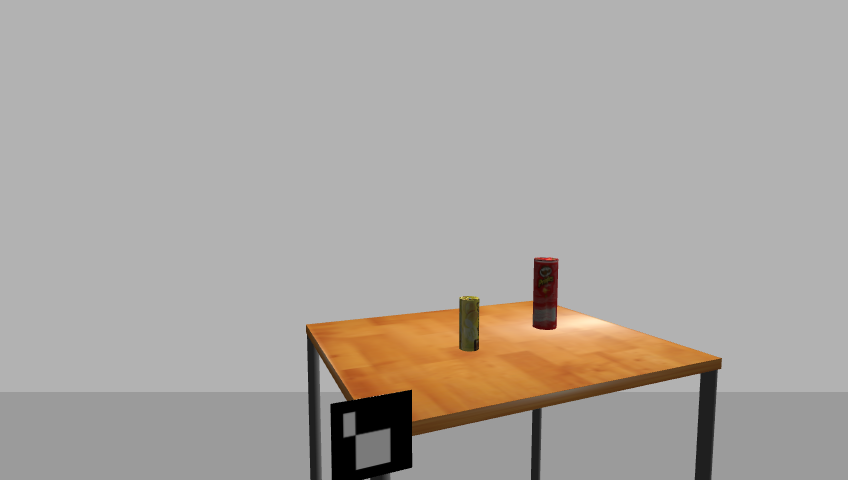aruco marker: (324, 389, 418, 480)
biscuits pack: (457, 295, 481, 353)
dinner table: (298, 299, 731, 479)
pringles can: (531, 256, 561, 332)
